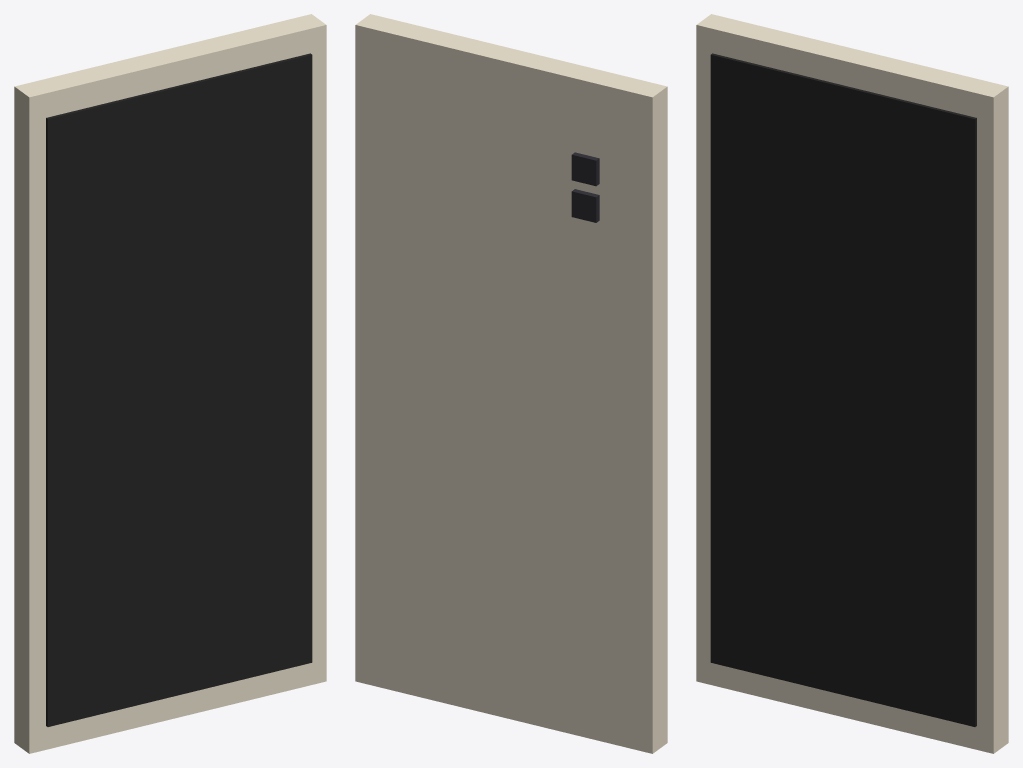
Rendered from iphone-xs-max.glb.
3 views of the same model, side by side, from view 1: azimuth 30°, elevation 25°; view 2: azimuth 150°, elevation 25°; view 3: azimuth 330°, elevation 25° (orthographic).
Visible parts, largest first — view 1: tela, corpo; view 2: corpo, lente-1, lente-0; view 3: tela, corpo.
Part boxes in pixels (box(x1,y1,x2,y2)): tela: box(46, 53, 312, 726); corpo: box(14, 14, 326, 753); corpo: box(355, 14, 667, 753); lente-1: box(571, 189, 599, 222); lente-0: box(571, 152, 599, 186); tela: box(710, 53, 976, 726); corpo: box(696, 14, 1008, 753).
Bounding box in the file's own units: 0.8478 × 1.79 × 0.1.
